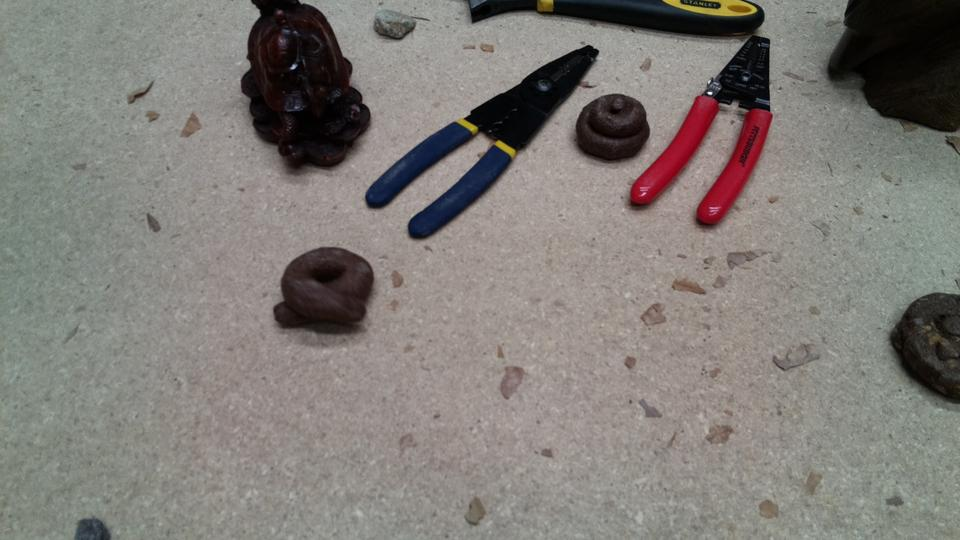poop: (269, 242, 382, 339), (885, 287, 960, 410), (568, 90, 659, 166)
